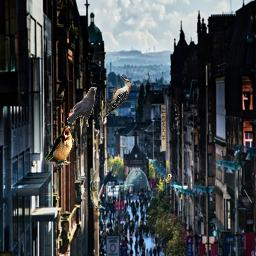Crow: (67, 87, 97, 127)
Cuckoo: (90, 168, 100, 208)
Sparrow: (160, 173, 172, 183)
Swallow: (45, 125, 74, 165)
Woodpecker: (104, 75, 131, 115)
